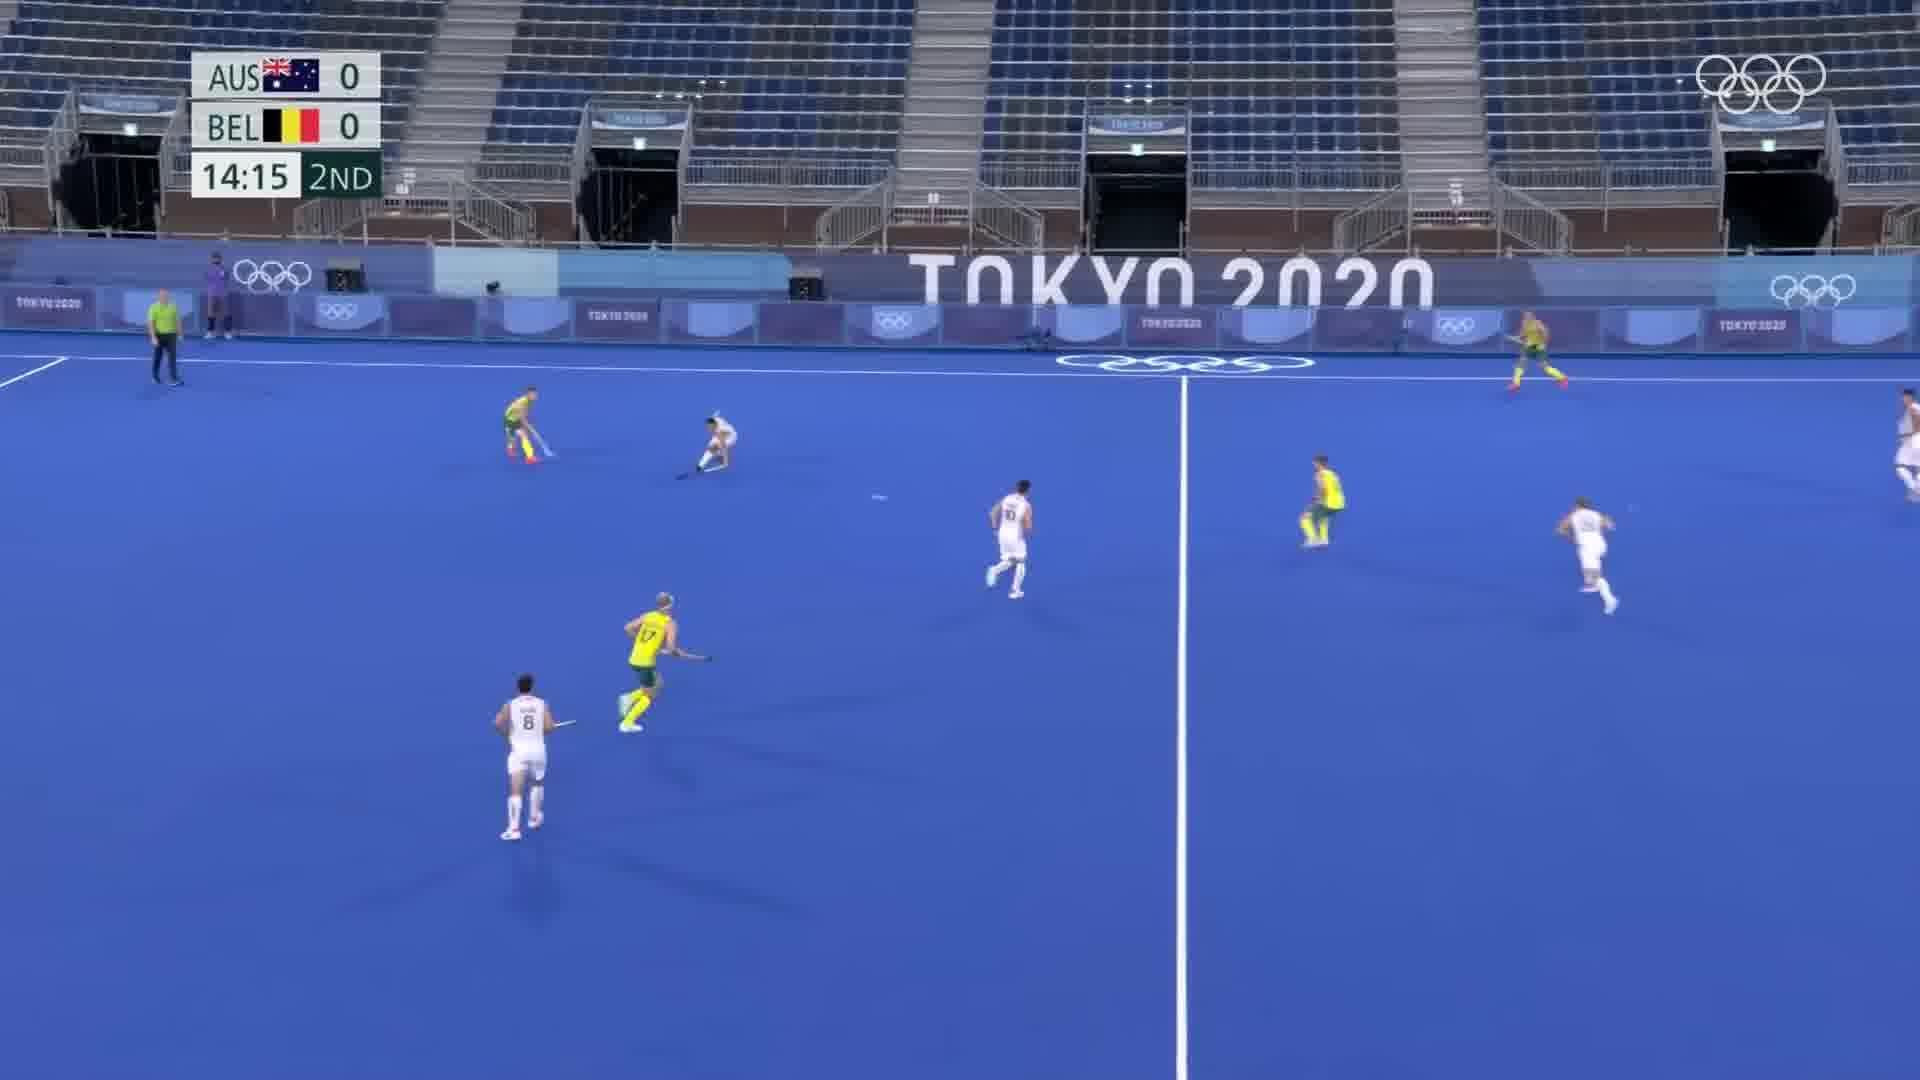ball: (866, 488, 891, 508)
